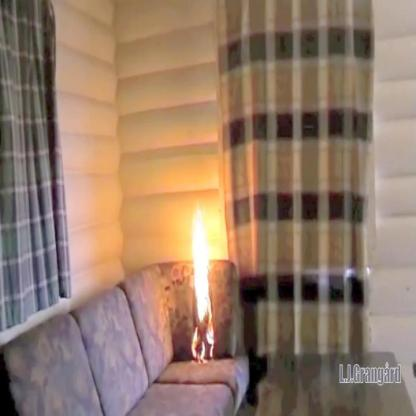fire: (182, 198, 216, 369)
